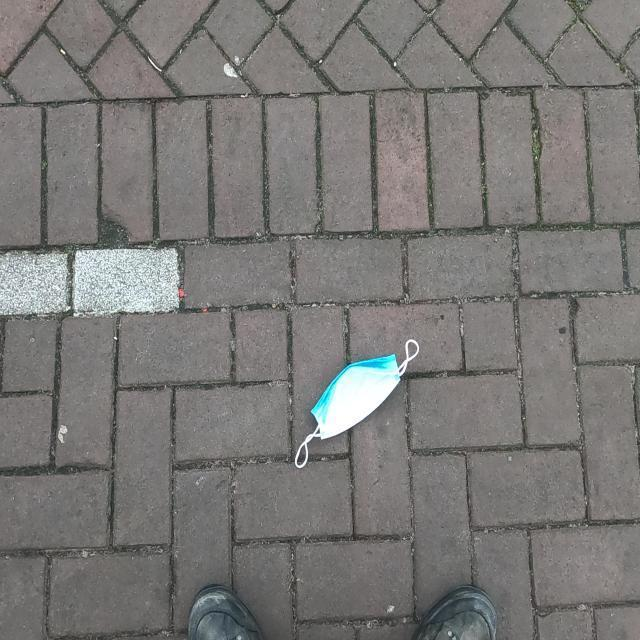Mask: (292, 338, 420, 472)
